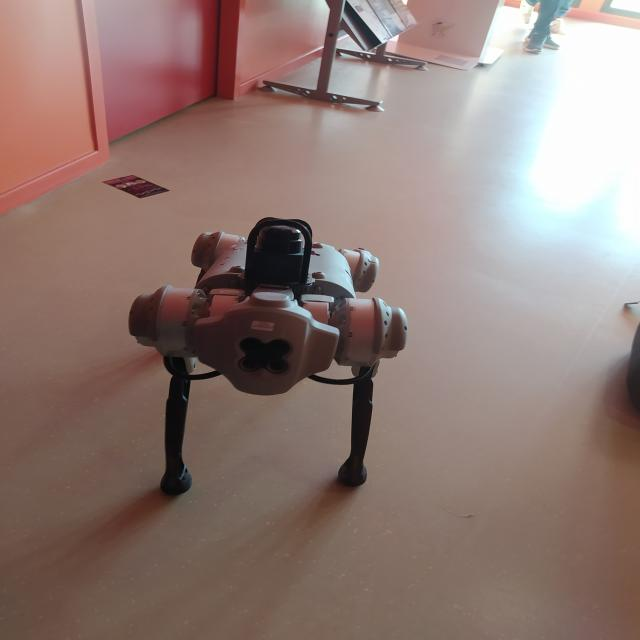unitree-go1-robot: (124, 208, 410, 503)
